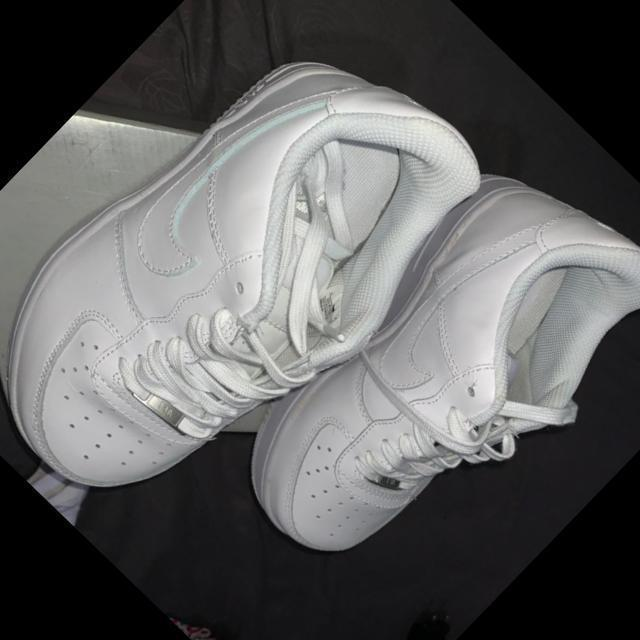nike fake air force: (0, 0, 510, 577), (196, 131, 640, 640)
